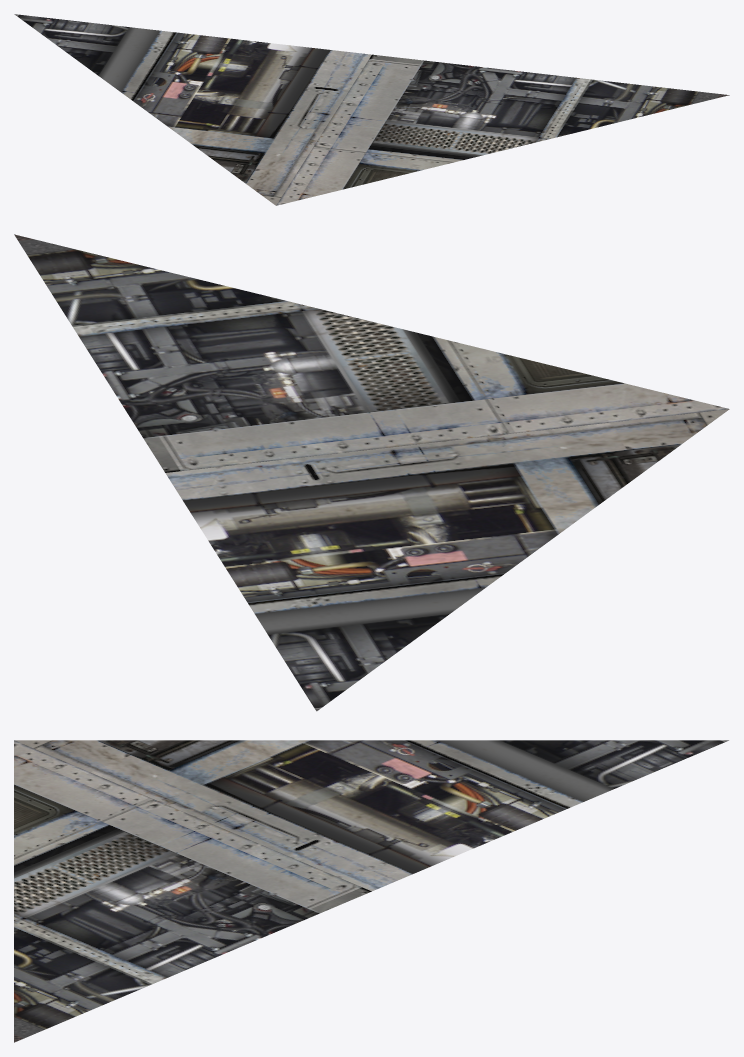
Rendered from Ceiling_B_14.fbx.
The picture shows the model from 3 angles, top to bottom: view 1: azimuth 30°, elevation 25°; view 2: azimuth 150°, elevation 25°; view 3: azimuth 270°, elevation 25°; orthographic projection. The views are drawn at different scales.
Parts seen in each view (by area): view 1: Ceiling_B_14; view 2: Ceiling_B_14; view 3: Ceiling_B_14.
Part boxes in pixels (x1,y1,x2,y2): Ceiling_B_14: [14, 14, 729, 205]; Ceiling_B_14: [14, 234, 729, 711]; Ceiling_B_14: [14, 740, 728, 1042].
Size of the model in its own units: 201 by 0.000911 by 201.
